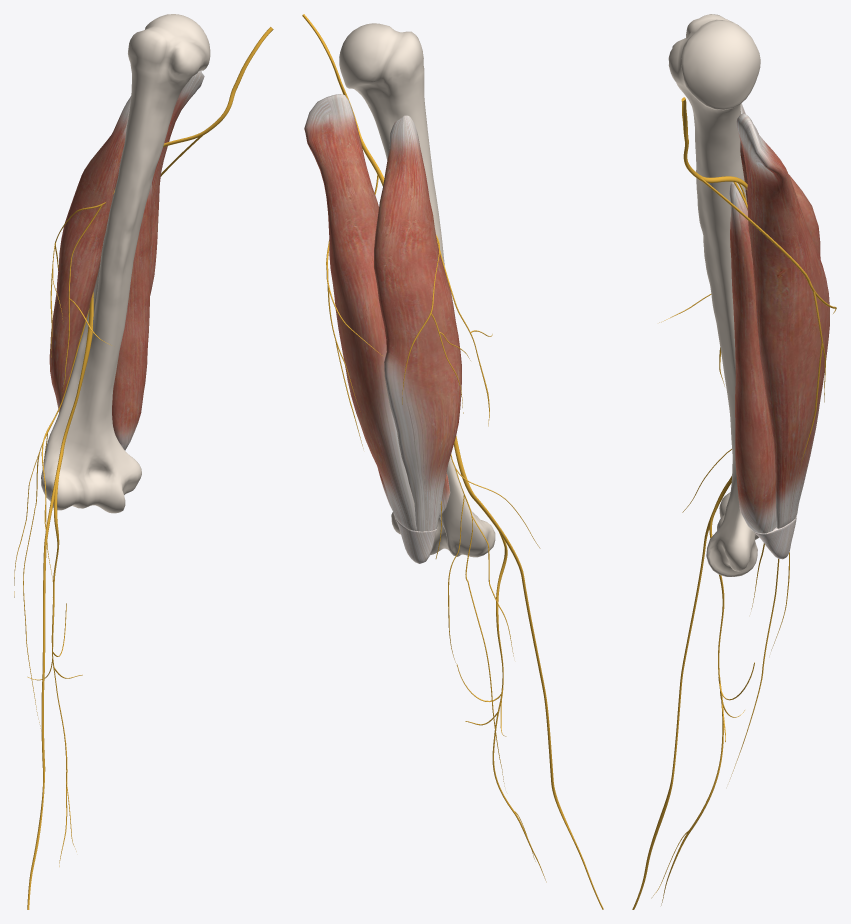
The model's file is radial-nerve.glb.
3 renders of one model, left to right at view 1: azimuth 30°, elevation 25°; view 2: azimuth 150°, elevation 25°; view 3: azimuth 270°, elevation 25°, orthographic. The views are drawn at different scales.
Parts seen in each view (by area): view 1: Humerus.r, Lateral head of triceps brachii.r, Medial head of triceps brachii.r, Long head of triceps brachii.r, Radial nerve (superficial br).r, Radial nerve.r, Radial nerve (posterior antebrachial cutaneous n).r, Radial nerve (inferior lateral brachial cutaneous n).r, Radial nerve (posterior interosseus n).r; view 2: Lateral head of triceps brachii.r, Long head of triceps brachii.r, Humerus.r, Radial nerve (superficial br).r, Radial nerve (posterior antebrachial cutaneous n).r, Common tendon of triceps brachii.r, Radial nerve (inferior lateral brachial cutaneous n).r, Radial nerve.r, Radial nerve (posterior interosseus n).r; view 3: Long head of triceps brachii.r, Humerus.r, Medial head of triceps brachii.r, Radial nerve (superficial br).r, Radial nerve (posterior brachial cutaneous n).r, Lateral head of triceps brachii.r, Common tendon of triceps brachii.r, Radial nerve (posterior interosseus n).r, Radial nerve (posterior antebrachial cutaneous n).r, Radial nerve.r, Radial nerve (deep branch).r.
Boxes of the visible parts, bbox=[...] form: Humerus.r: bbox=[41, 14, 210, 513]; Lateral head of triceps brachii.r: bbox=[49, 96, 131, 412]; Medial head of triceps brachii.r: bbox=[112, 183, 152, 450]; Long head of triceps brachii.r: bbox=[150, 70, 204, 295]; Radial nerve (superficial br).r: bbox=[27, 453, 63, 909]; Radial nerve.r: bbox=[60, 87, 236, 453]; Radial nerve (posterior antebrachial cutaneous n).r: bbox=[14, 308, 89, 728]; Radial nerve (inferior lateral brachial cutaneous n).r: bbox=[50, 188, 115, 394]; Radial nerve (posterior interosseus n).r: bbox=[27, 603, 82, 866]; Lateral head of triceps brachii.r: bbox=[374, 115, 461, 531]; Long head of triceps brachii.r: bbox=[304, 94, 416, 530]; Humerus.r: bbox=[339, 23, 495, 557]; Radial nerve (superficial br).r: bbox=[474, 497, 603, 909]; Radial nerve (posterior antebrachial cutaneous n).r: bbox=[448, 454, 540, 786]; Common tendon of triceps brachii.r: bbox=[393, 513, 436, 563]; Radial nerve (inferior lateral brachial cutaneous n).r: bbox=[402, 235, 492, 426]; Radial nerve.r: bbox=[338, 80, 476, 558]; Radial nerve (posterior interosseus n).r: bbox=[457, 664, 546, 882]; Long head of triceps brachii.r: bbox=[736, 113, 829, 528]; Humerus.r: bbox=[668, 14, 760, 576]; Medial head of triceps brachii.r: bbox=[729, 182, 776, 533]; Radial nerve (superficial br).r: bbox=[632, 476, 731, 909]; Radial nerve (posterior brachial cutaneous n).r: bbox=[701, 178, 836, 461]; Lateral head of triceps brachii.r: bbox=[740, 103, 820, 258]; Common tendon of triceps brachii.r: bbox=[753, 516, 796, 559]; Radial nerve (posterior interosseus n).r: bbox=[651, 662, 754, 905]; Radial nerve (posterior antebrachial cutaneous n).r: bbox=[682, 449, 789, 781]; Radial nerve.r: bbox=[683, 140, 747, 210]; Radial nerve (deep branch).r: bbox=[709, 478, 730, 677].
Bounding box in the file's own units: 0.1825 × 0.5384 × 0.1007.
Materials: 5 (3 with a texture image).
